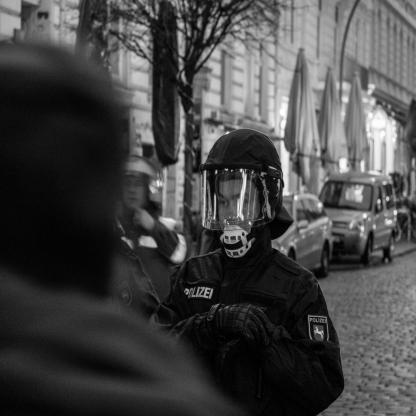Helmet: (202, 131, 286, 264)
